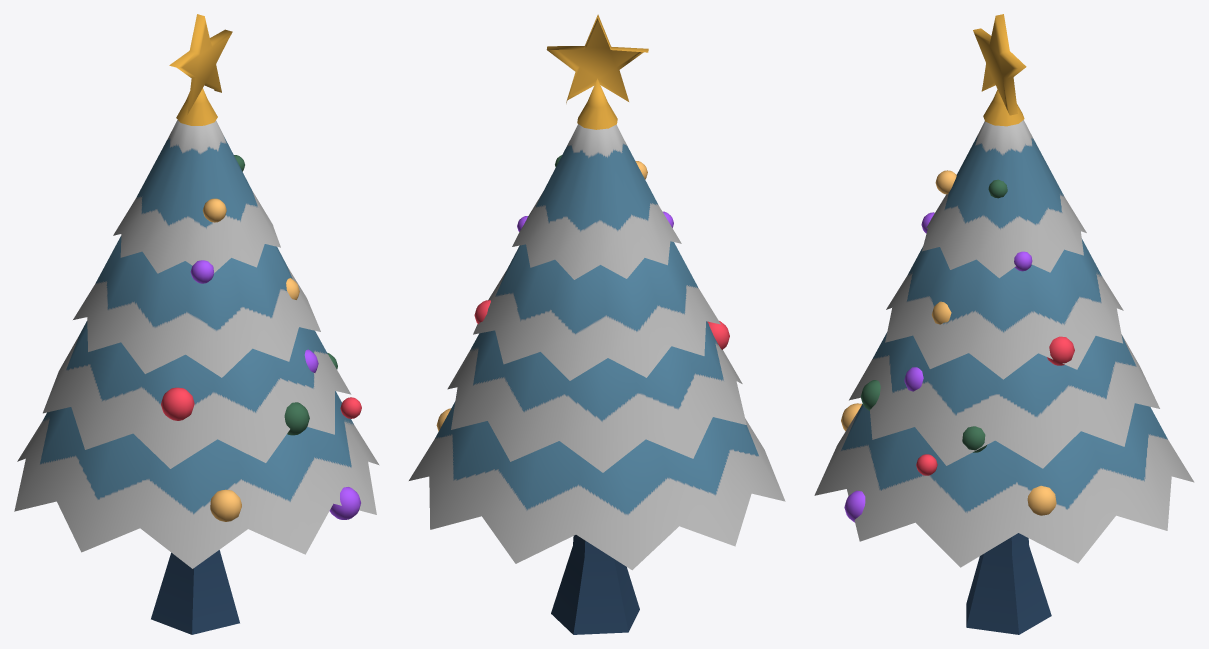
File: TreeMediumChristmas.glb
3 renders of one model, left to right at view 1: azimuth 30°, elevation 25°; view 2: azimuth 150°, elevation 25°; view 3: azimuth 270°, elevation 25°, orthographic.
Parts seen in each view (by area): view 1: tree medium, Circle.003; view 2: tree medium, Circle.003; view 3: tree medium, Circle.003.
Boxes of the visible parts, x1,y1,x2,y2 form: tree medium: (14, 120, 379, 634); Circle.003: (161, 14, 361, 521); tree medium: (409, 124, 785, 634); Circle.003: (436, 14, 729, 431); tree medium: (814, 120, 1194, 634); Circle.003: (841, 14, 1074, 522).
Size of the model in its own units: 1.28 by 2.28 by 1.31.
2 materials, 2 textured.
